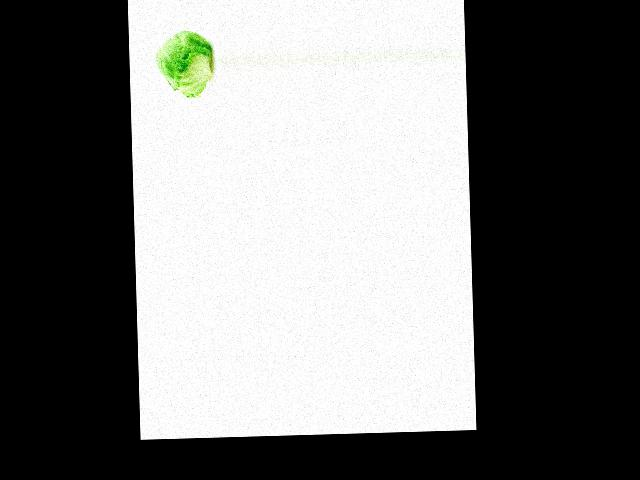lettuce: (153, 27, 213, 98)
